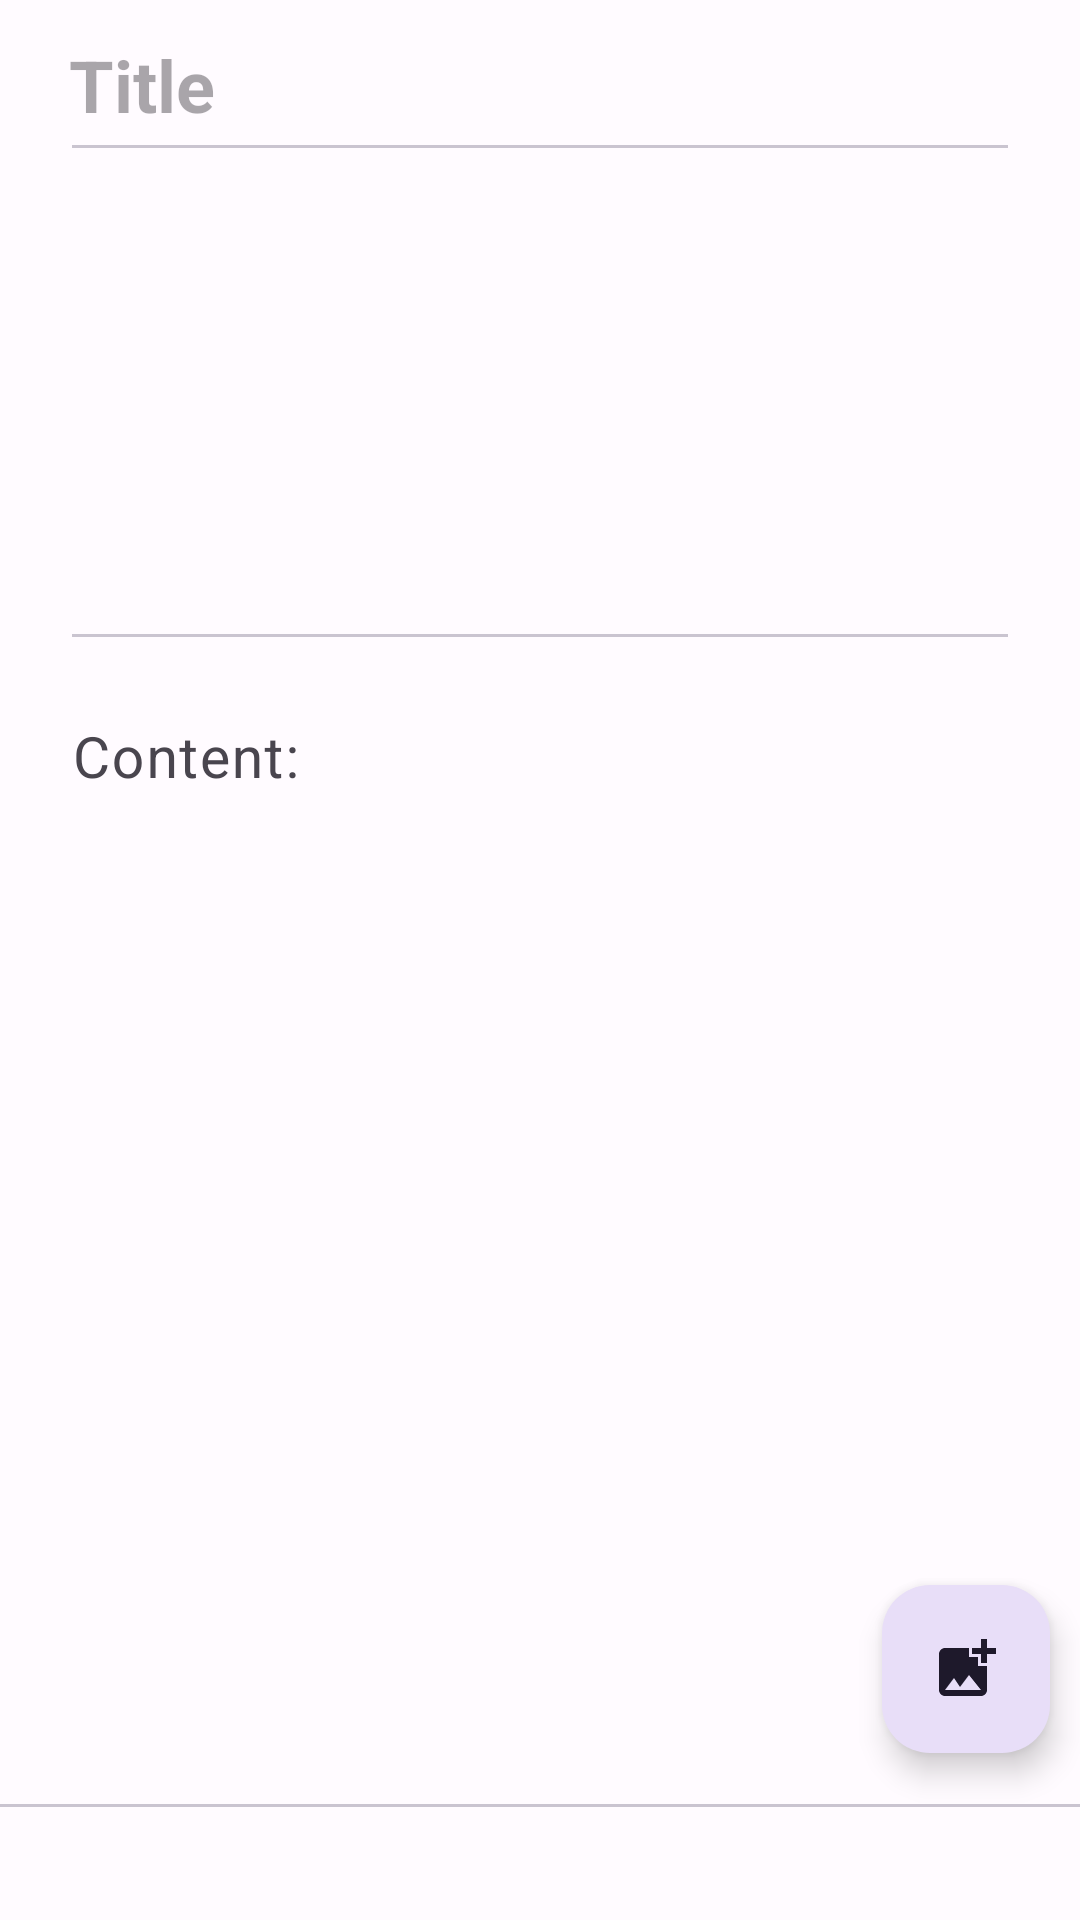

Screen size 1080×1920. Icon name, then its center in pixels as [x,y]:
add photo alternate: [966,1669]
